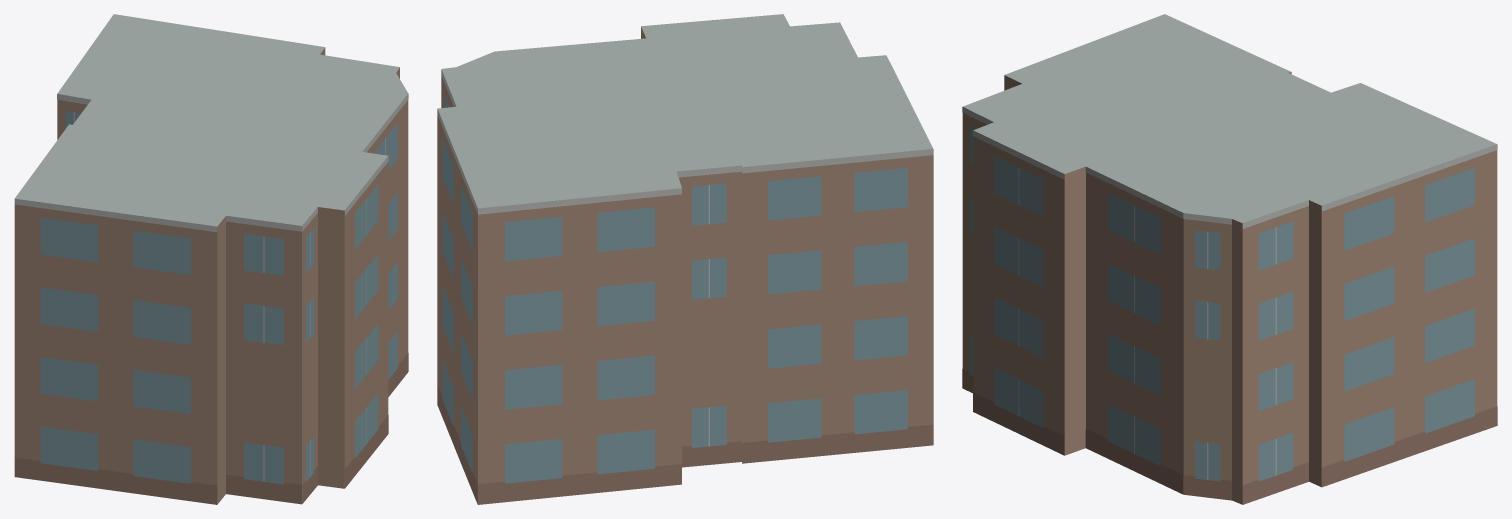
The model's file is survey-upis-32682077.glb.
The picture shows the model from 3 angles, left to right: view 1: azimuth 30°, elevation 25°; view 2: azimuth 150°, elevation 25°; view 3: azimuth 270°, elevation 25°; orthographic projection. The views are drawn at different scales.
Visible parts, largest first — view 1: survey-upis-32682077.tmp; view 2: survey-upis-32682077.tmp; view 3: survey-upis-32682077.tmp.
Part boxes in pixels (left/top/right/bottom): survey-upis-32682077.tmp: left=14, top=14, right=408, bottom=504; survey-upis-32682077.tmp: left=437, top=14, right=933, bottom=504; survey-upis-32682077.tmp: left=962, top=14, right=1497, bottom=504.
Bounding box in the file's own units: 18.73 × 11.75 × 20.23.
